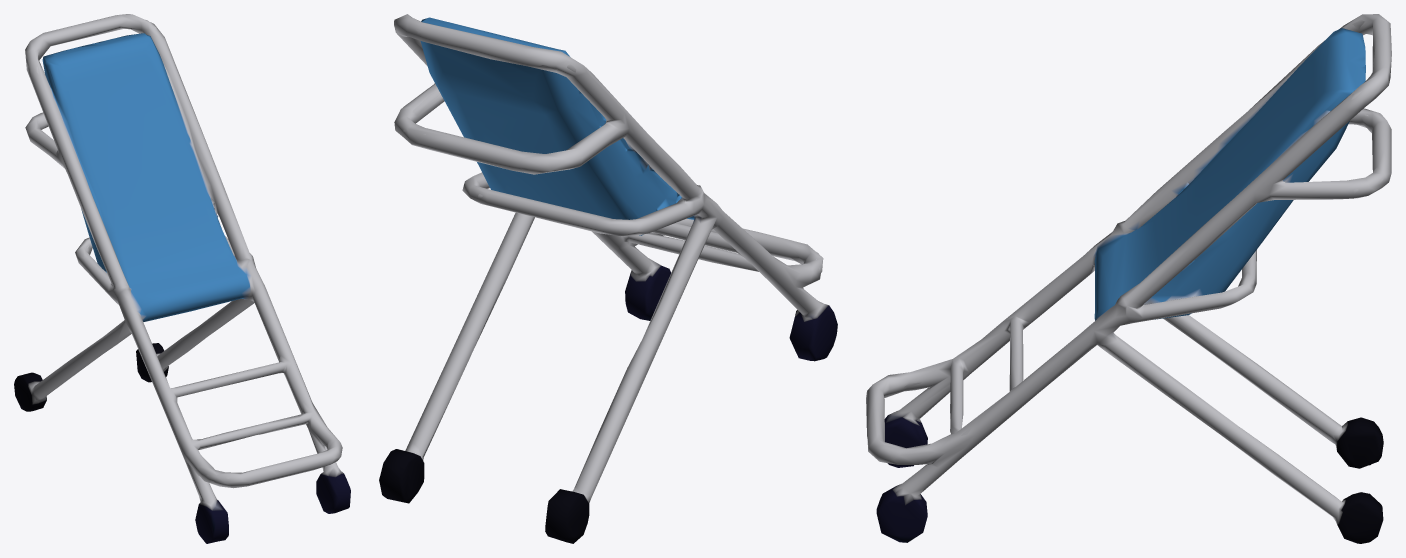
File: gen3d-medical-stretcher-lod0.glb
3 renders of one model, left to right at view 1: azimuth 30°, elevation 25°; view 2: azimuth 150°, elevation 25°; view 3: azimuth 270°, elevation 25°, orthographic. The views are drawn at different scales.
Visible parts, largest first — view 1: part_0; view 2: part_0; view 3: part_0.
Part boxes in pixels (left/top/right/bottom): part_0: left=14, top=14, right=350, bottom=543; part_0: left=379, top=14, right=837, bottom=543; part_0: left=866, top=14, right=1391, bottom=543.
Size of the model in its own units: 0.3977 by 0.9995 by 1.04.
